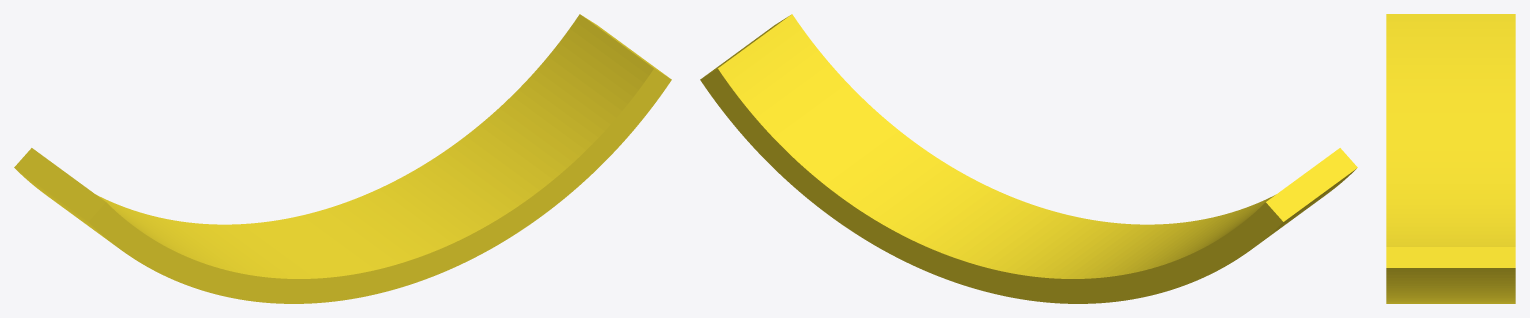
3 views of the same model, side by side, from view 1: azimuth 30°, elevation 25°; view 2: azimuth 150°, elevation 25°; view 3: azimuth 270°, elevation 25° (orthographic). The views are drawn at different scales.
Parts seen in each view (by area): view 1: Cube; view 2: Cube; view 3: Cube.
Boxes of the visible parts, x1,y1,x2,y2 form: Cube: (14, 14, 671, 303); Cube: (700, 14, 1357, 303); Cube: (1386, 14, 1515, 303).
Size of the model in its own units: 9.05 by 2.34 by 2.
